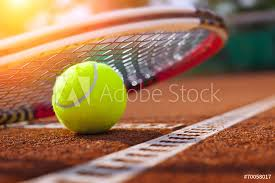tennis_ball: (51, 60, 128, 135)
